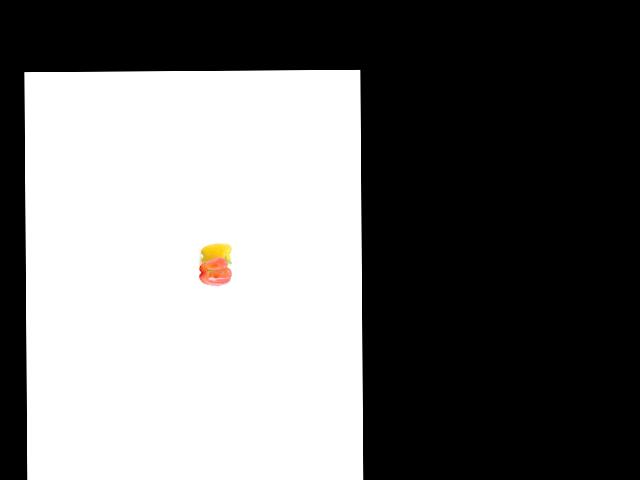bell_pepper: (199, 242, 230, 268)
